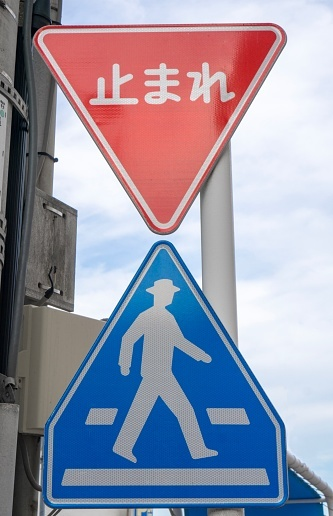Regulatory_sign_triangle: (33, 22, 287, 240)
